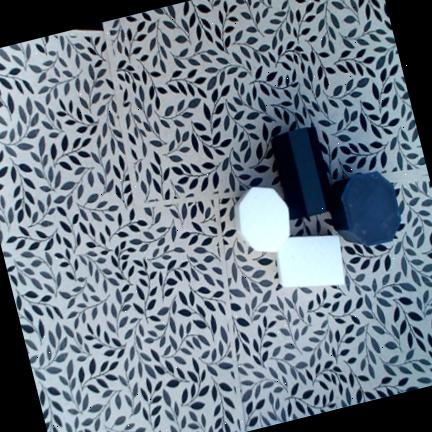Paralelepipedo: (275, 235, 345, 288)
Prisma_hexagonal: (271, 126, 330, 220), (330, 170, 401, 246), (234, 186, 289, 252)
